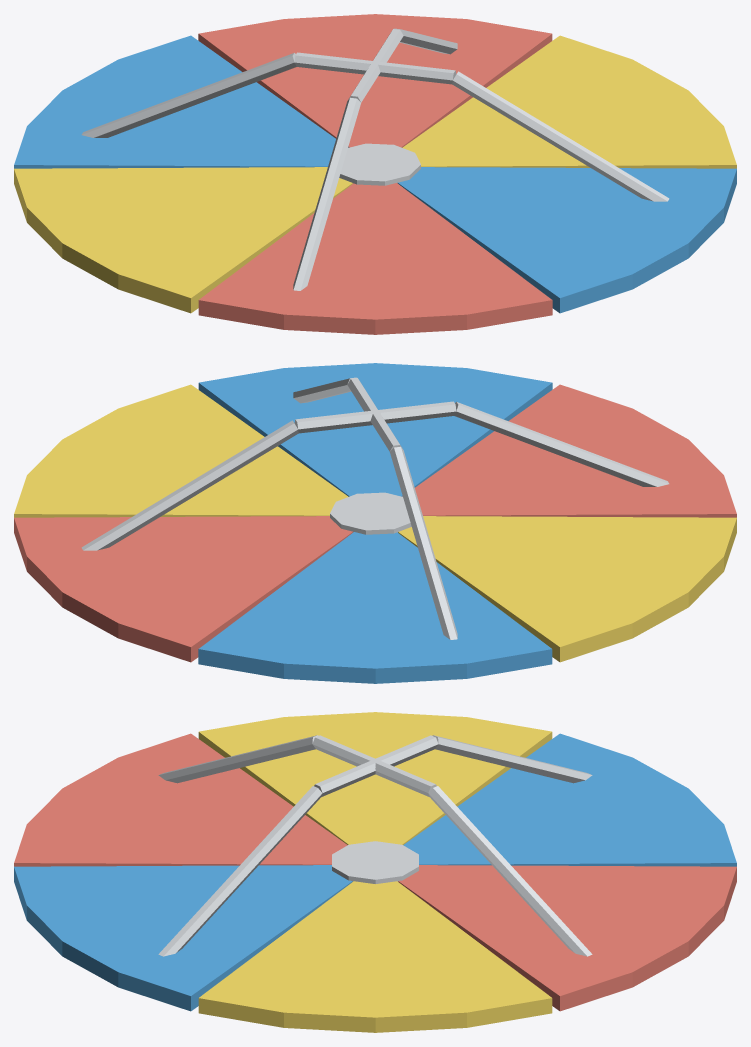
The model's file is 33659-Playground-Roundabout-City-Park-and-Playground.glb.
The picture shows the model from 3 angles, top to bottom: view 1: azimuth 30°, elevation 25°; view 2: azimuth 150°, elevation 25°; view 3: azimuth 270°, elevation 25°; orthographic projection.
Visible parts, largest first — view 1: deck/sunflower, deck/azure, deck/poppy, deck/steel; view 2: deck/sunflower, deck/poppy, deck/azure, deck/steel; view 3: deck/azure, deck/poppy, deck/sunflower, deck/steel.
Part boxes in pixels (x1=…): deck/sunflower: x1=14, y1=35, x2=736, y2=313; deck/azure: x1=14, y1=35, x2=736, y2=313; deck/poppy: x1=198, y1=14, x2=552, y2=334; deck/steel: x1=81, y1=28, x2=669, y2=290; deck/sunflower: x1=14, y1=384, x2=736, y2=662; deck/poppy: x1=14, y1=384, x2=736, y2=662; deck/azure: x1=198, y1=363, x2=552, y2=683; deck/steel: x1=81, y1=377, x2=669, y2=639; deck/azure: x1=14, y1=733, x2=736, y2=1011; deck/poppy: x1=14, y1=733, x2=736, y2=1011; deck/sunflower: x1=198, y1=712, x2=552, y2=1032; deck/steel: x1=158, y1=735, x2=592, y2=956.
Bounding box in the file's own units: 3 × 0.8859 × 3.
